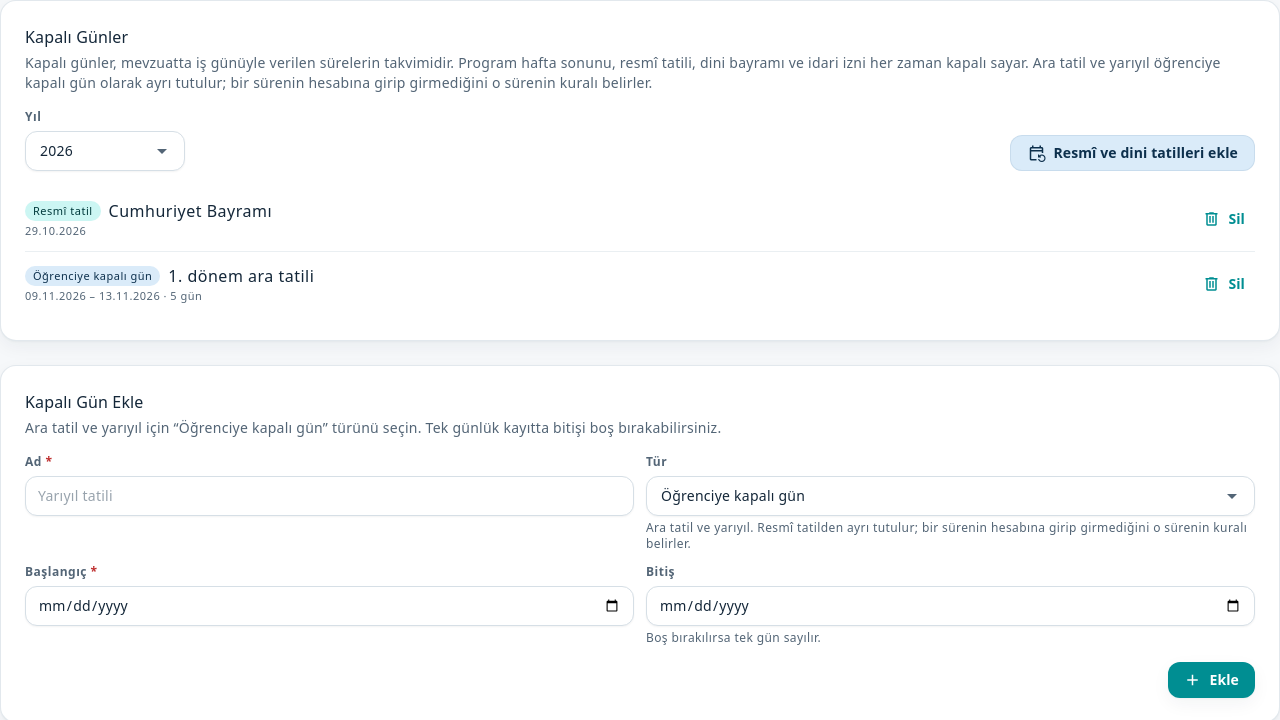
KapaliGunlerPaneli — resmî ve dini tatilleri ekle › seçili yılı tohumlar, sonucu bildirir ve listeyi yeniler
expect the text "Cumhuriyet Bayramı" is shown: met, box [109,200,272,222]
What coordinates should you click on to do the following:
click the button "Resmî ve dini tatilleri ekle"
I would click on:
 (1133, 153)
Its box is [1010,135,1255,171].
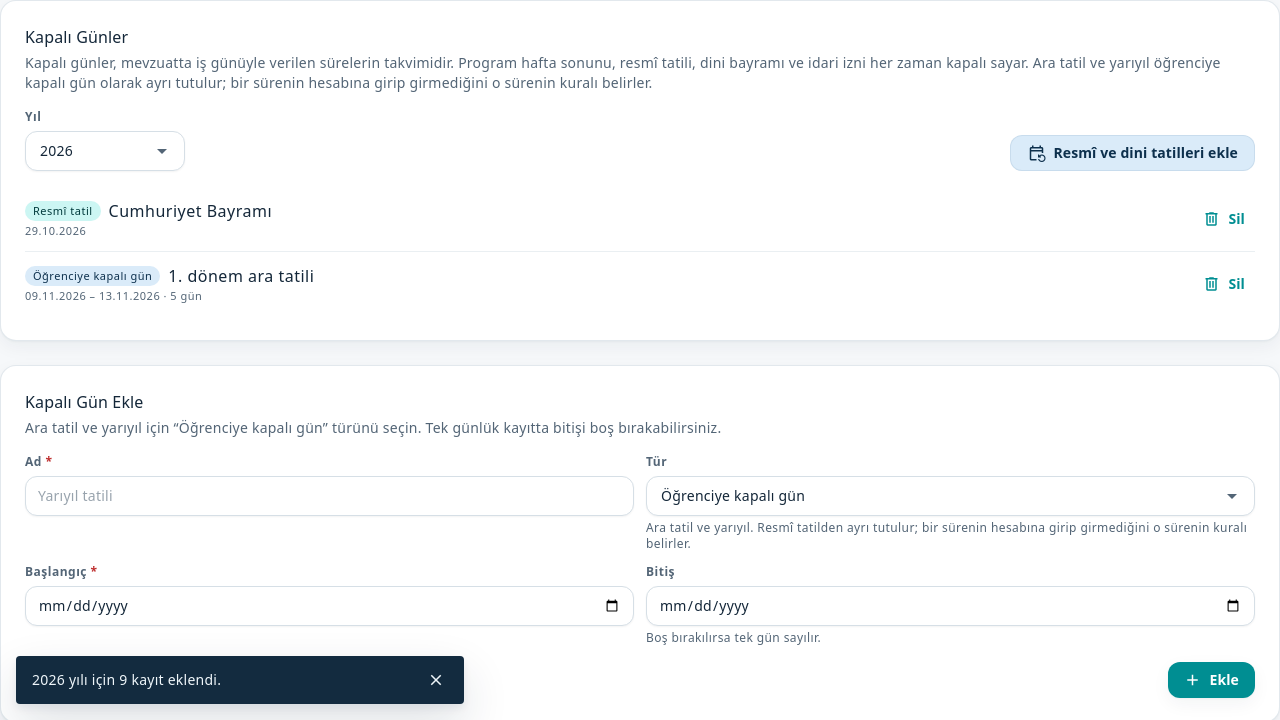
expect the text "2026 yılı için 9 kayıt eklendi." is shown: met, box [32,670,221,689]
